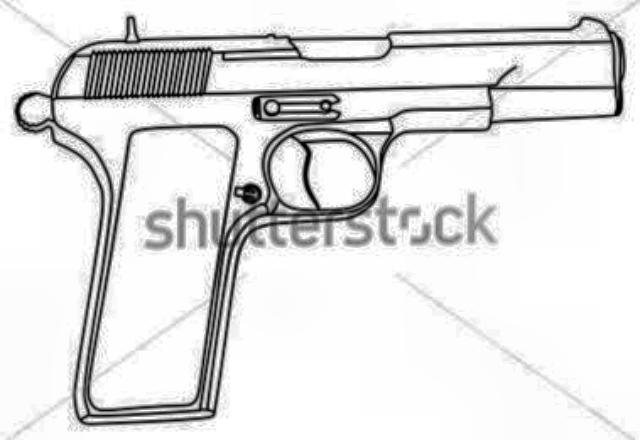pistol: (9, 2, 615, 422)
